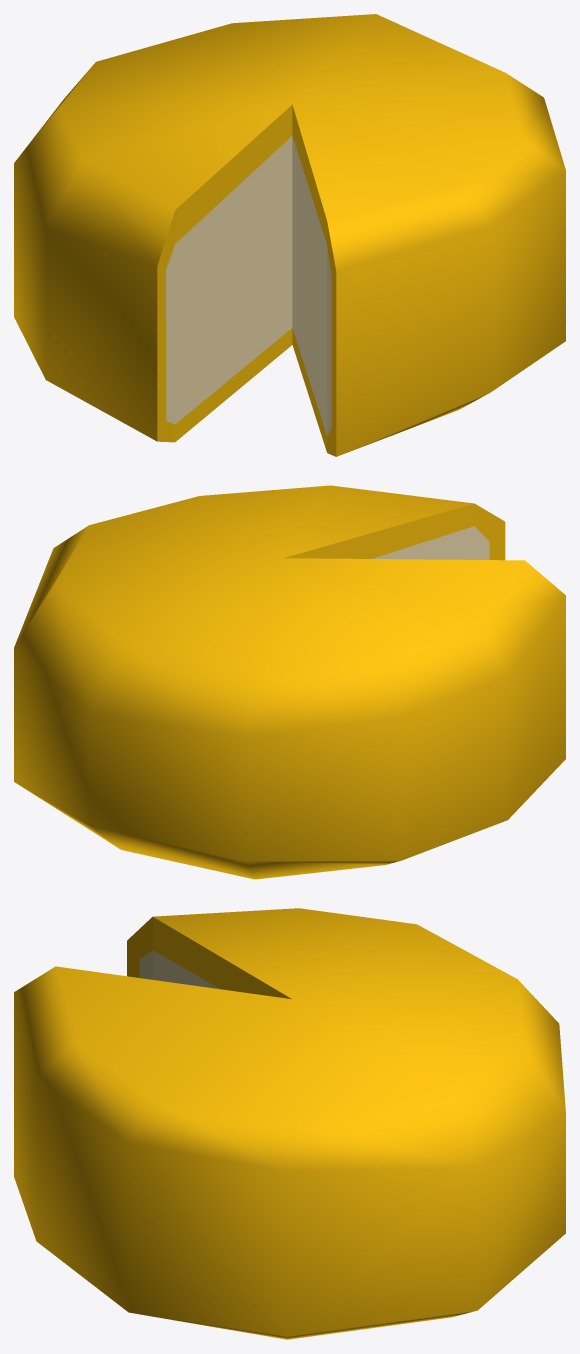
Rendered from Cheese_B.fbx.
3 renders of one model, top to bottom at view 1: azimuth 30°, elevation 25°; view 2: azimuth 150°, elevation 25°; view 3: azimuth 270°, elevation 25°, orthographic. The views are drawn at different scales.
Parts seen in each view (by area): view 1: Cheese_B; view 2: Cheese_B; view 3: Cheese_B.
Boxes of the visible parts, box(x1,y1,x2,y2) form: Cheese_B: box(14, 14, 565, 456); Cheese_B: box(14, 485, 565, 879); Cheese_B: box(14, 908, 565, 1339).
Bounding box in the file's own units: 31.05 × 14.48 × 30.41.
